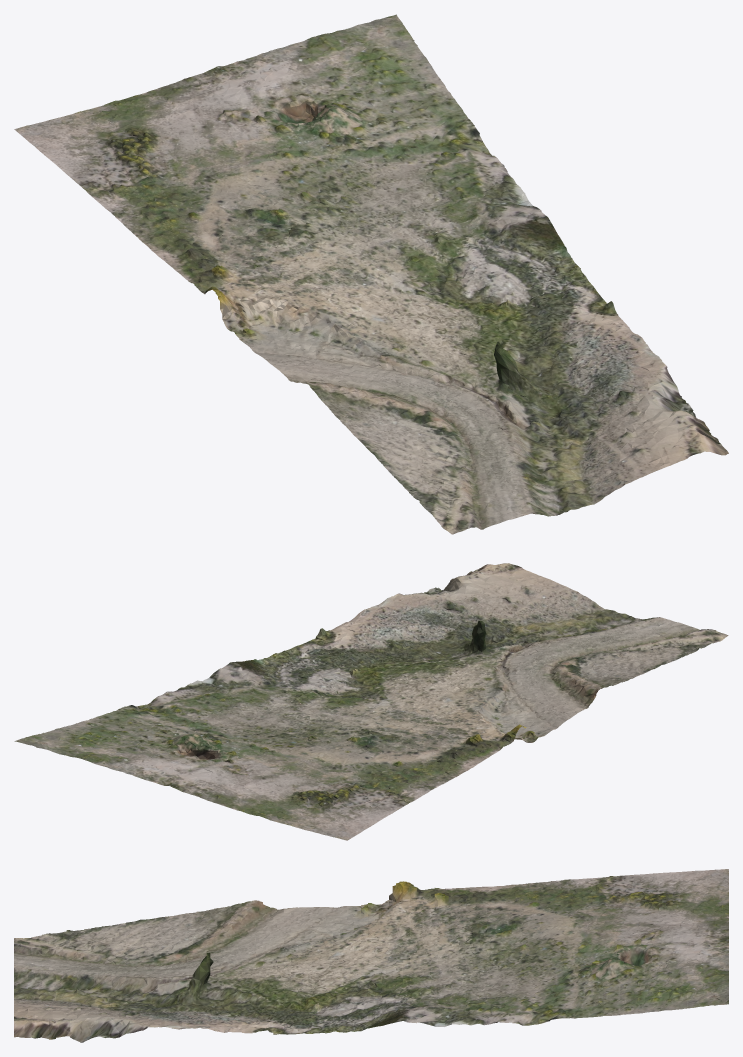
Rendered from MODELO34.GLB.
3 views of the same model, one above another, from view 1: azimuth 30°, elevation 25°; view 2: azimuth 150°, elevation 25°; view 3: azimuth 270°, elevation 25° (orthographic). The views are drawn at different scales.
Size of the model in its own units: 51.44 by 14.5 by 102.
Materials: 1 (1 with a texture image).
